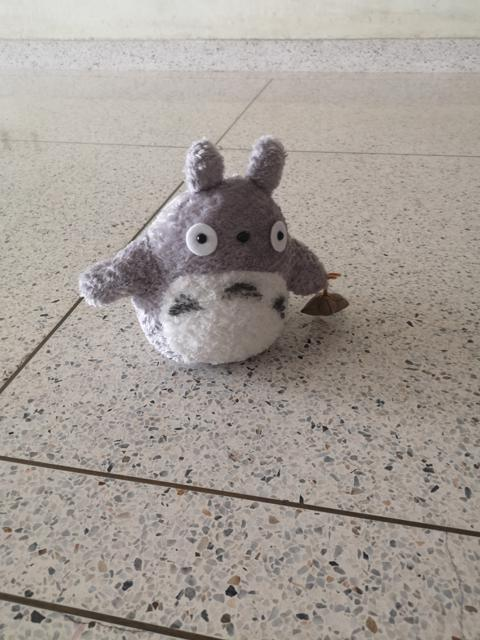totoro: (74, 135, 351, 371)
